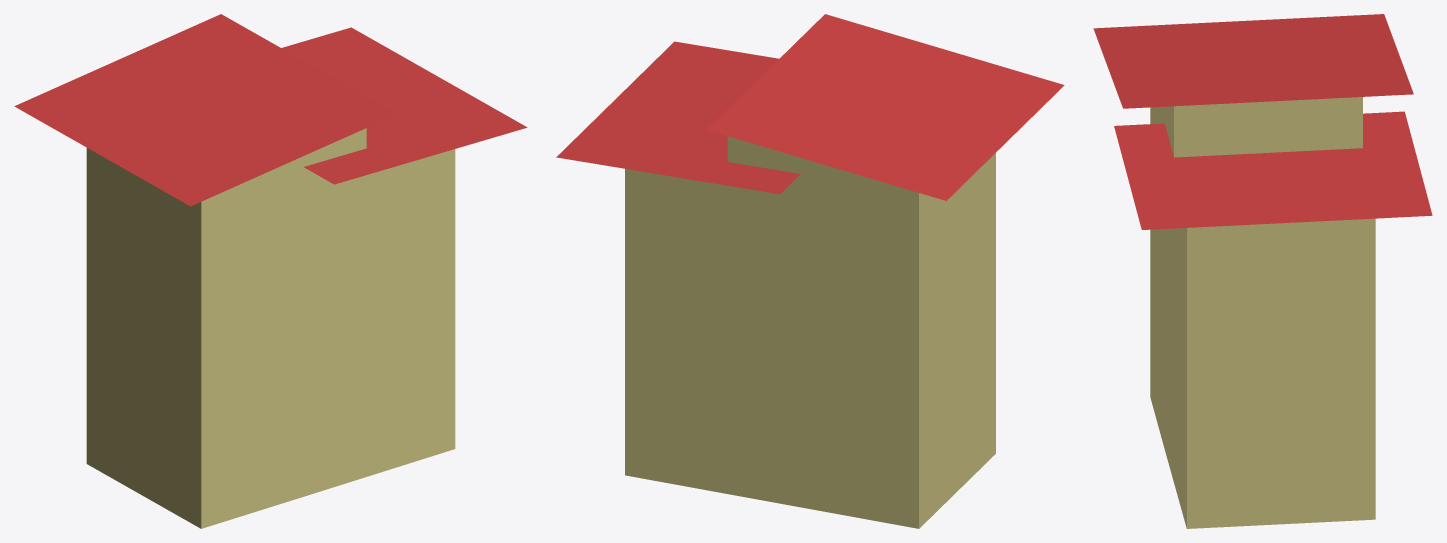
3 views of the same model, side by side, from view 1: azimuth 30°, elevation 25°; view 2: azimuth 150°, elevation 25°; view 3: azimuth 270°, elevation 25° (orthographic). The views are drawn at different scales.
Size of the model in its own units: 6.54 by 4.95 by 6.07.
